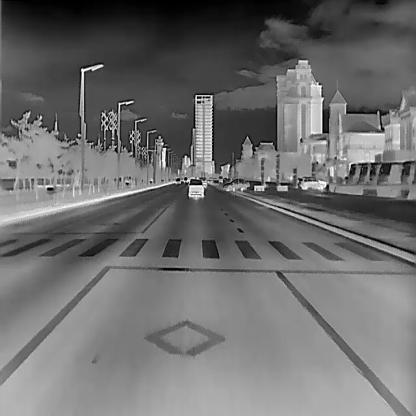car: (296, 174, 324, 188), (188, 178, 204, 198), (223, 178, 248, 190), (199, 176, 206, 188), (218, 174, 223, 183), (175, 177, 181, 184)
